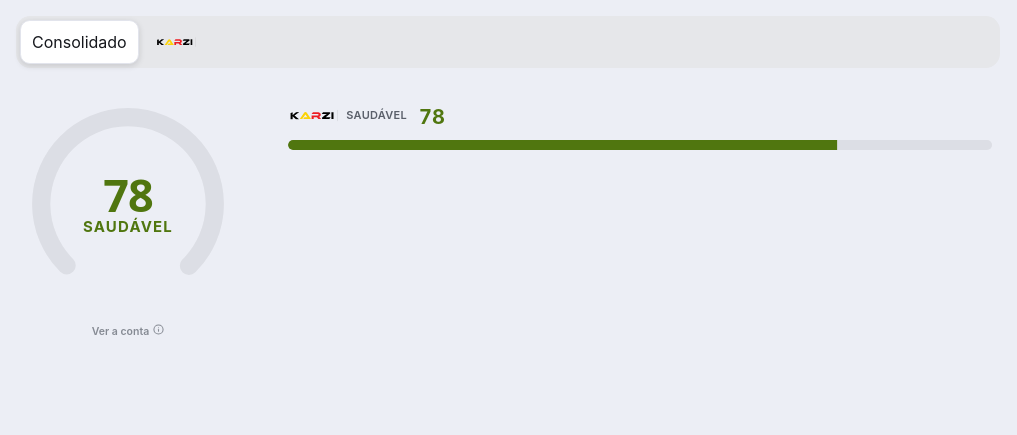
it: cards de Métricas › mostra o score consolidado e admite a leitura parcial da marca
Check: the picture named "pontuação 78 de 100, saudável" is shown, box top-left (16, 92), bottom-right (240, 316)
Note: Abrir a marca revela os pilares — e o aviso de que só 3 dos 4 têm dado.
Click the tab named "karzi": x=175, y=42 top-left (143, 20), bottom-right (208, 64)
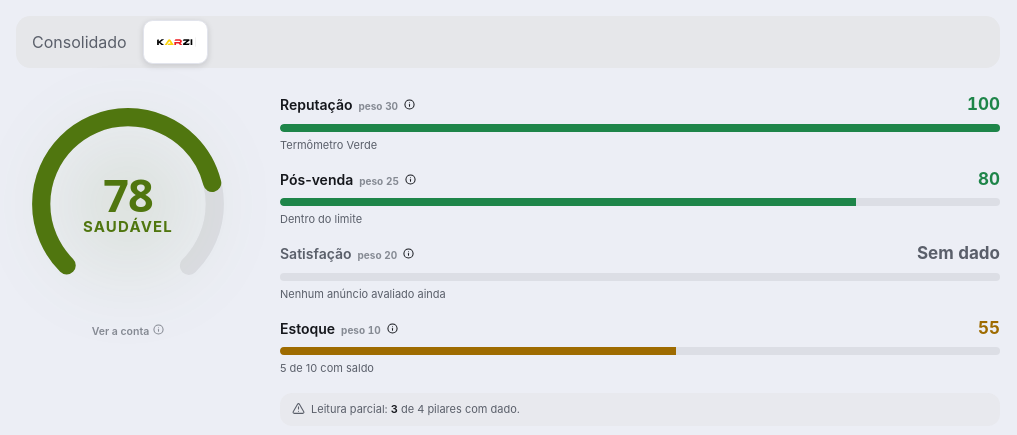
Check: the text "Leitura parcial: 3 de 4 pilares com dado." is shown, box top-left (311, 400), bottom-right (520, 418)
Check: the text "Nenhum anúncio avaliado ainda" is shown, box top-left (280, 287), bottom-right (446, 301)
